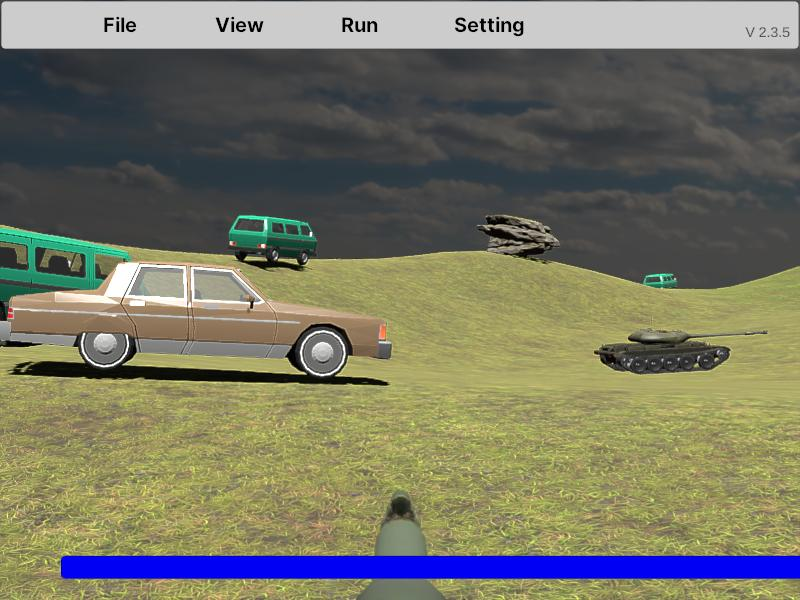Tank: (593, 327, 770, 374)
car: (1, 263, 389, 380), (0, 218, 138, 341), (228, 215, 317, 267)
